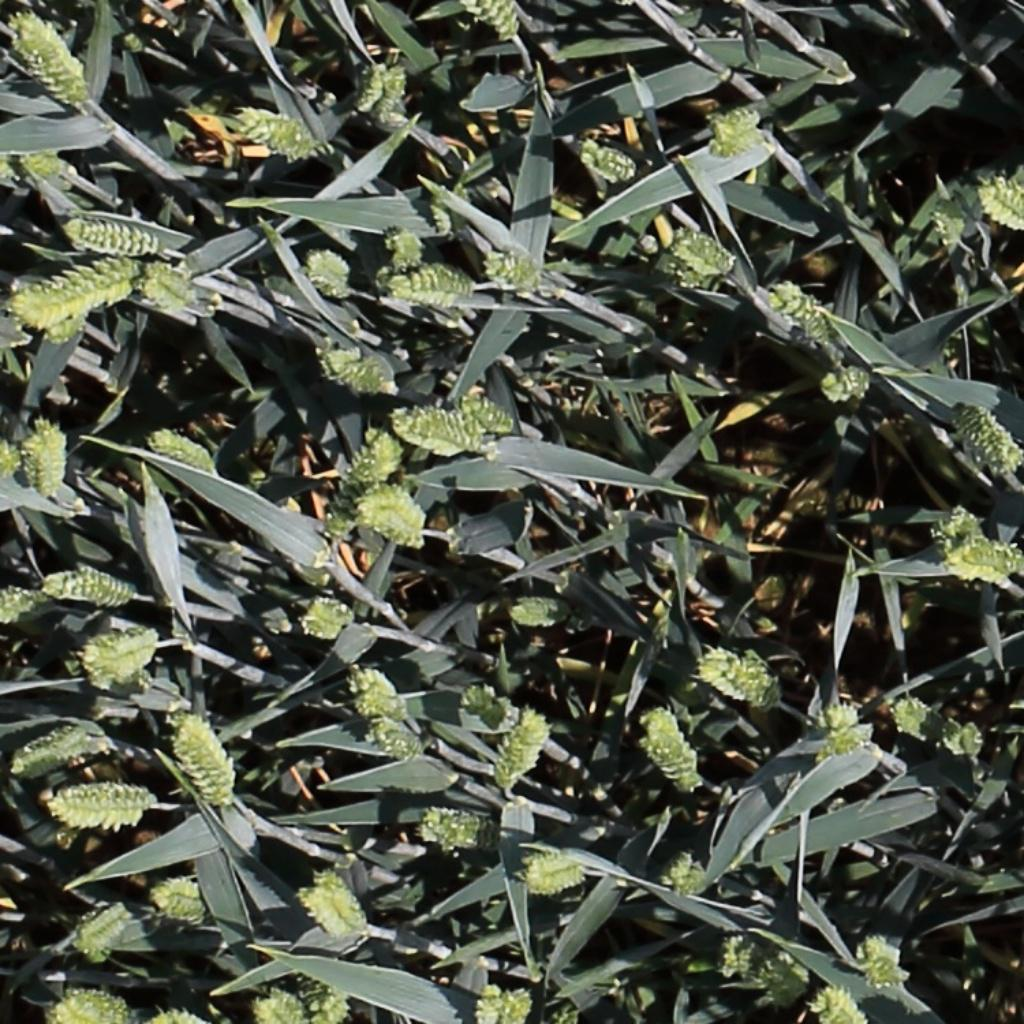0-0: (317, 428, 402, 541), (17, 262, 136, 324), (12, 12, 88, 105), (891, 697, 989, 764), (700, 93, 772, 182), (39, 784, 160, 833), (177, 712, 237, 804), (933, 504, 1000, 582), (497, 709, 550, 801), (352, 658, 414, 732), (645, 712, 703, 787), (76, 628, 156, 682), (456, 680, 529, 739), (957, 401, 1014, 476), (775, 278, 838, 345), (391, 409, 484, 453), (23, 413, 70, 498), (357, 486, 425, 544), (9, 730, 95, 775), (318, 868, 371, 939), (319, 348, 402, 393), (374, 265, 468, 304), (296, 883, 357, 943), (43, 560, 130, 602), (704, 656, 775, 707), (238, 107, 311, 152), (147, 430, 217, 475), (62, 221, 163, 251), (670, 228, 737, 273), (502, 594, 581, 632), (77, 903, 132, 957), (472, 978, 536, 1024), (300, 591, 355, 644), (34, 305, 106, 345), (301, 966, 348, 1024), (915, 188, 961, 247), (352, 55, 393, 121), (858, 936, 909, 988), (415, 811, 492, 844), (716, 929, 762, 984), (806, 708, 867, 749), (363, 718, 422, 760), (466, 0, 521, 45), (486, 248, 542, 292), (581, 137, 640, 177), (304, 248, 353, 296), (382, 223, 429, 271), (662, 847, 704, 900), (510, 844, 615, 865), (765, 953, 804, 1009), (544, 980, 593, 1024), (816, 981, 865, 1024), (833, 375, 891, 410), (978, 181, 1024, 225), (65, 992, 128, 1022), (424, 185, 458, 240), (152, 890, 206, 921), (462, 400, 516, 431), (0, 593, 48, 626), (527, 869, 587, 891), (252, 993, 294, 1024), (957, 550, 1022, 570), (0, 430, 20, 484), (30, 149, 74, 173), (148, 1011, 206, 1024), (0, 141, 15, 176)
